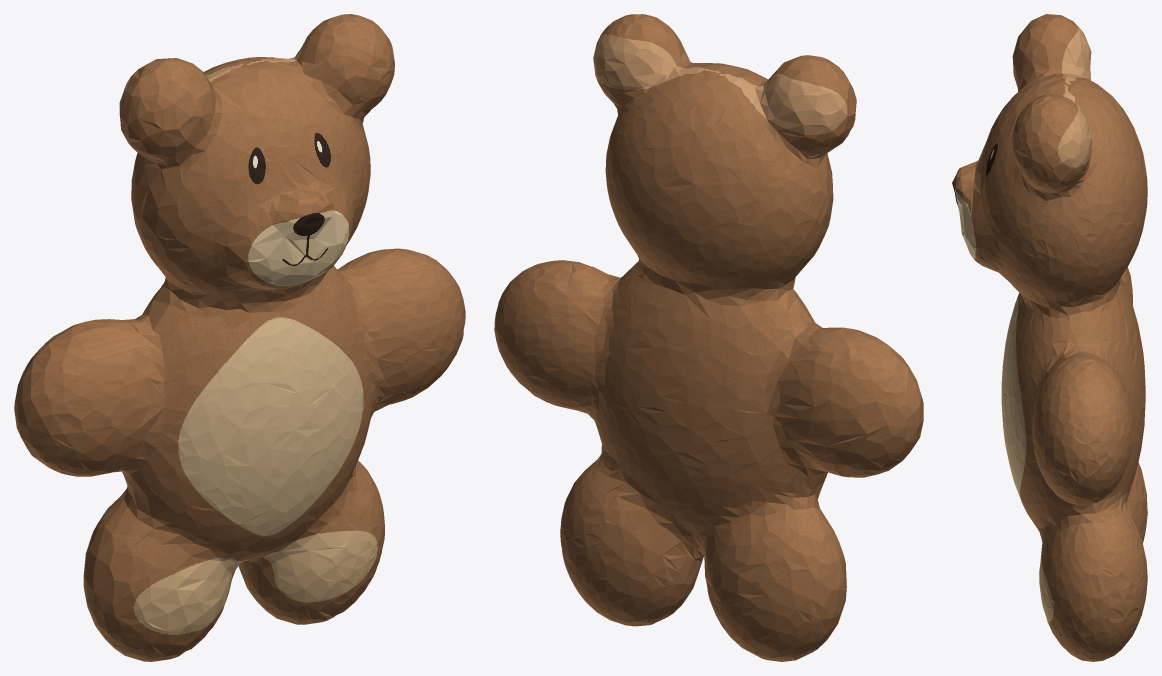
The model's file is bear.obj.
3 renders of one model, left to right at view 1: azimuth 30°, elevation 25°; view 2: azimuth 150°, elevation 25°; view 3: azimuth 270°, elevation 25°, orthographic. The views are drawn at different scales.
Bounding box in the file's own units: 0.2402 × 0.3208 × 0.1007.
Materials: 1 (1 with a texture image).
